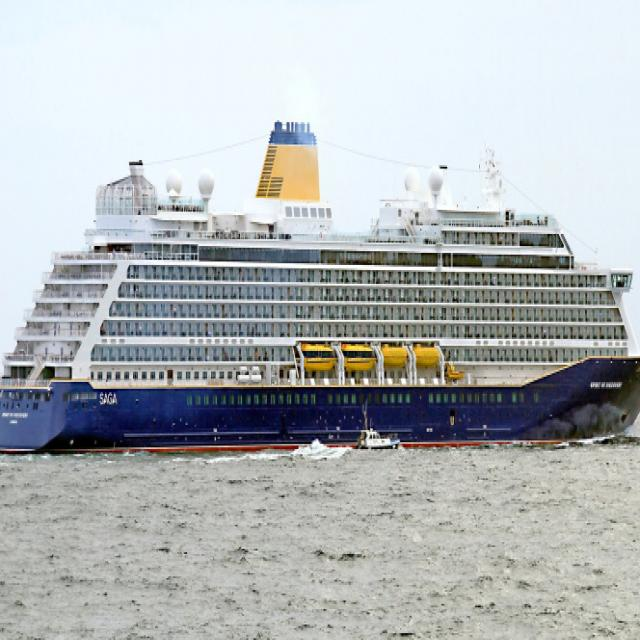cruises: (1, 96, 640, 459)
